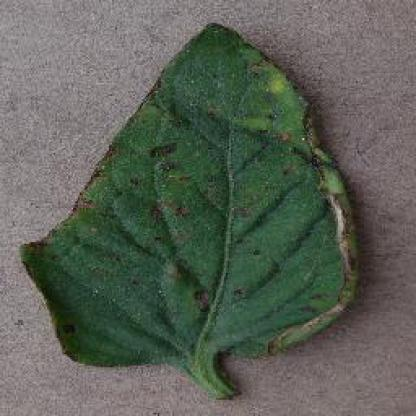bad leaf: (0, 2, 362, 401)
